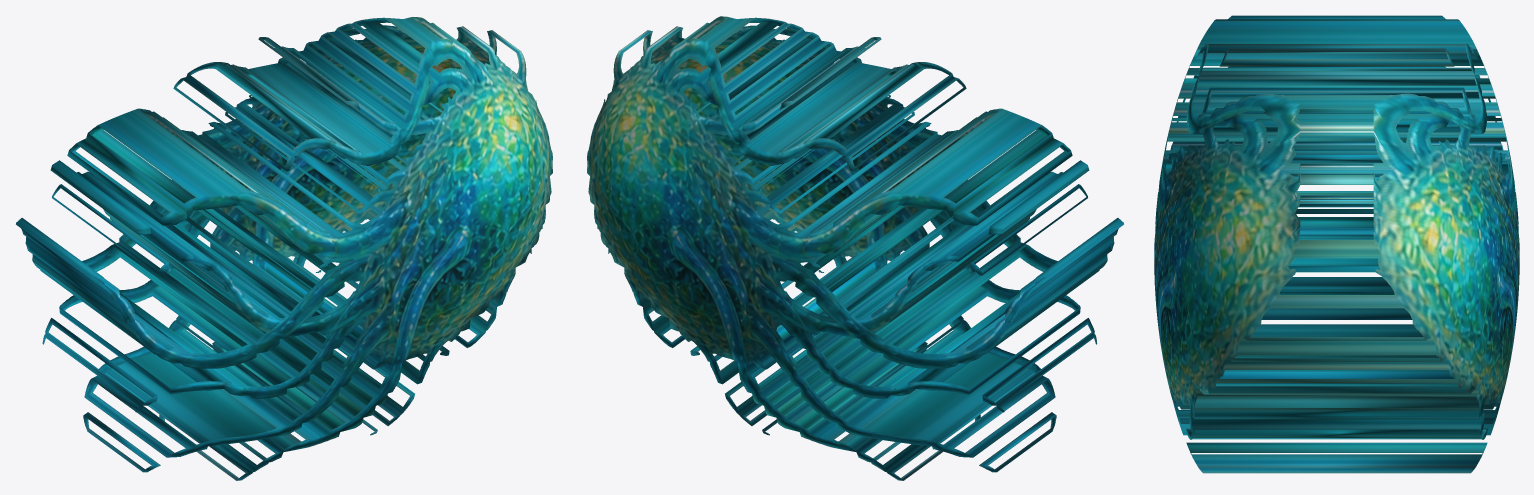
3 renders of one model, left to right at view 1: azimuth 30°, elevation 25°; view 2: azimuth 150°, elevation 25°; view 3: azimuth 270°, elevation 25°, orthographic. The views are drawn at different scales.
Visible parts, largest first — view 1: cells:3; view 2: cells:3; view 3: cells:3.
Part boxes in pixels (<box>): cells:3: <box>16,17,552,480</box>; cells:3: <box>587,16,1123,480</box>; cells:3: <box>1154,15,1519,473</box>.
Size of the model in its own units: 1.22 by 0.9189 by 0.6598.
Materials: 1 (1 with a texture image).
